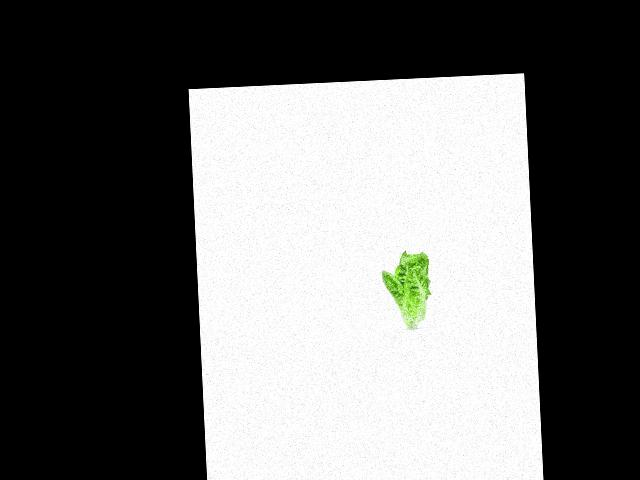lettuce: (380, 248, 435, 327)
